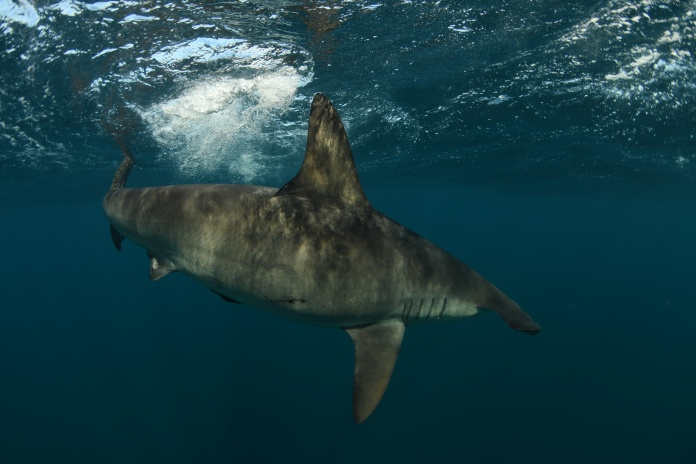Hammer: (93, 70, 557, 434)
